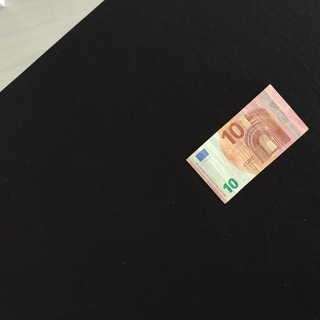10EUROFront: (185, 83, 309, 204)
